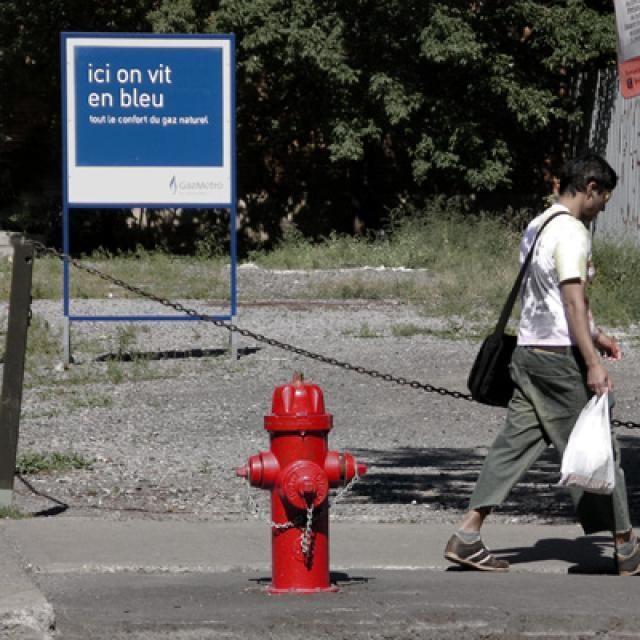fire_hydrant: (237, 368, 365, 590)
